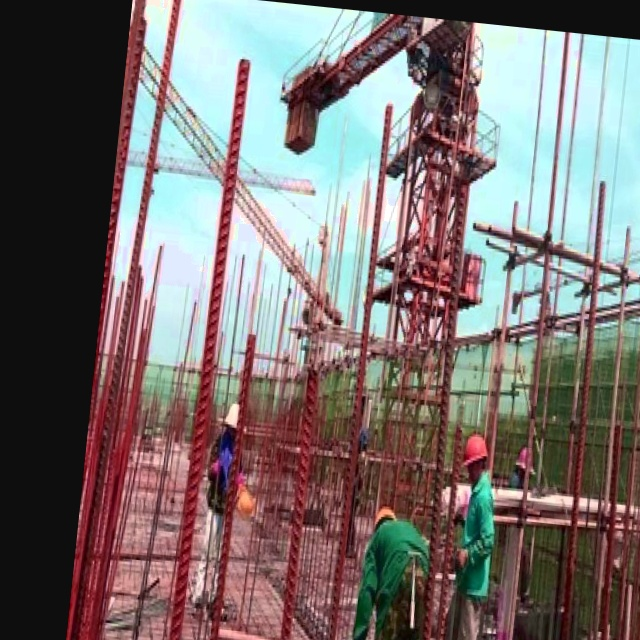Con_Casco: (462, 431, 491, 483)
